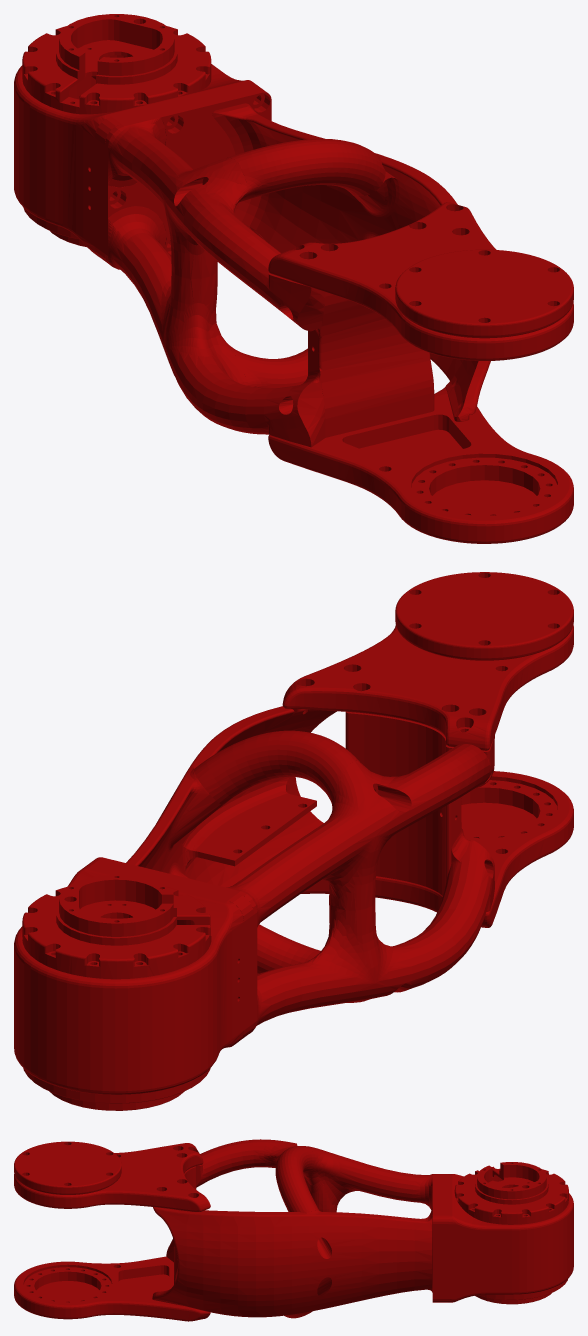
Rendered from Thigh_L_Link.obj.
3 views of the same model, one above another, from view 1: azimuth 30°, elevation 25°; view 2: azimuth 150°, elevation 25°; view 3: azimuth 270°, elevation 25° (orthographic). The views are drawn at different scales.
Parts seen in each view (by area): view 1: Thigh_L_Link; view 2: Thigh_L_Link; view 3: Thigh_L_Link.
Part boxes in pixels (<box>): Thigh_L_Link: <box>14,14,573,543</box>; Thigh_L_Link: <box>14,572,573,1110</box>; Thigh_L_Link: <box>14,1139,573,1321</box>.
Size of the model in its own units: 0.1423 by 0.135 by 0.4415.
